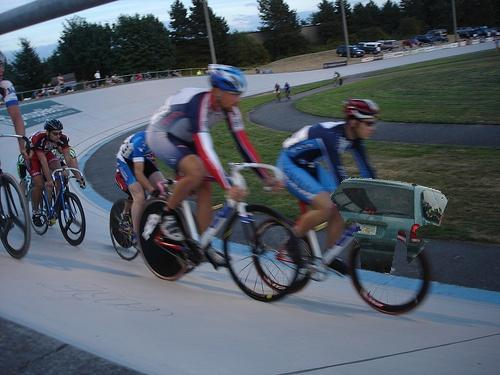tampered: (331, 178, 449, 274)
